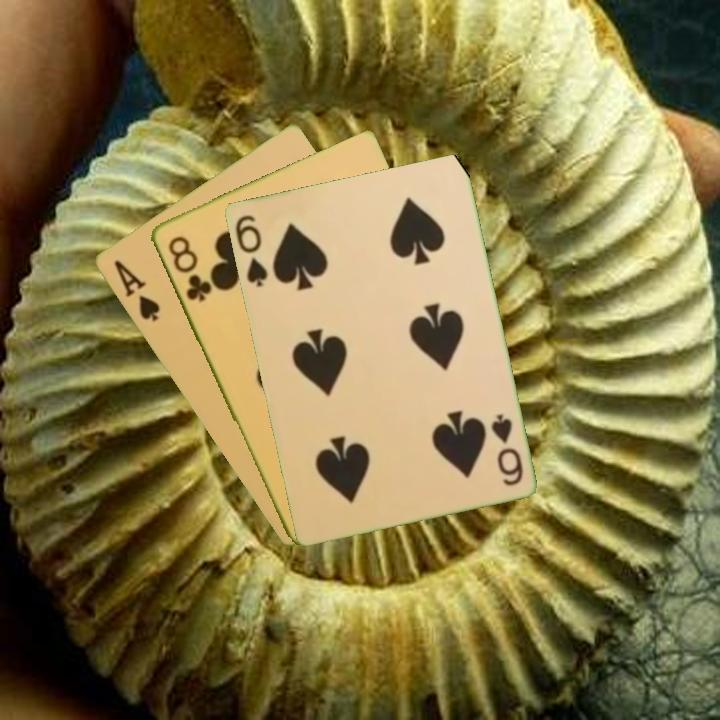6s: (231, 211, 270, 290), (487, 410, 526, 489)
8c: (164, 232, 214, 305)
As: (110, 256, 162, 325)
